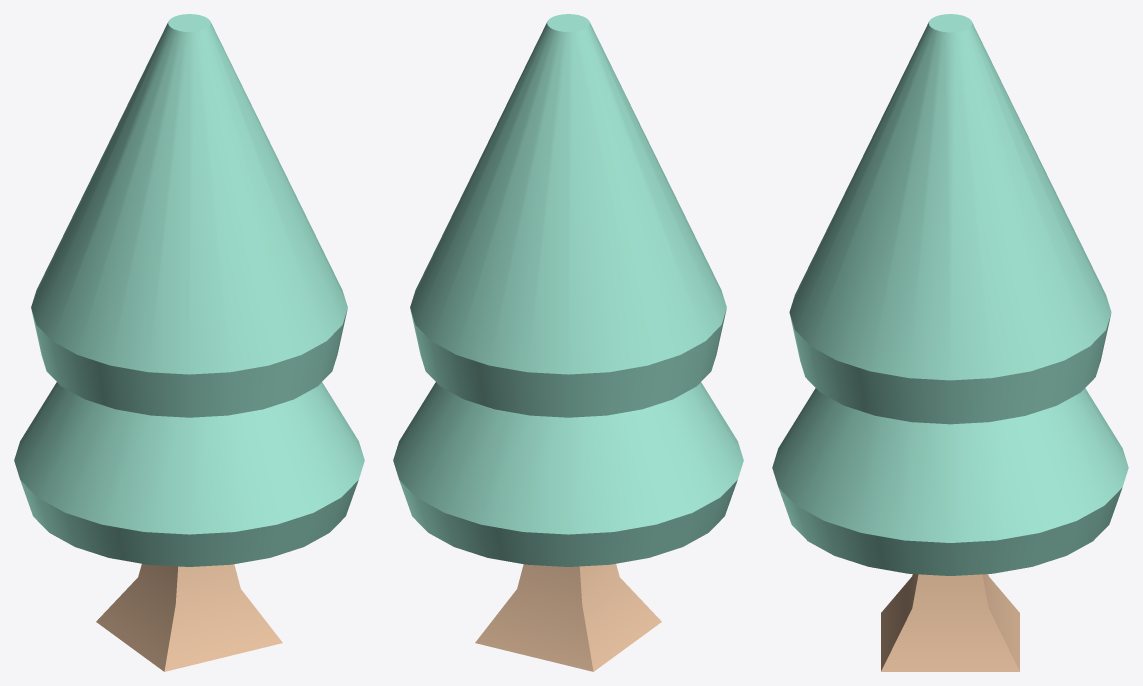
3 renders of one model, left to right at view 1: azimuth 30°, elevation 25°; view 2: azimuth 150°, elevation 25°; view 3: azimuth 270°, elevation 25°, orthographic.
Visible parts, largest first — view 1: treePineSmall; view 2: treePineSmall; view 3: treePineSmall.
Boxes of the visible parts, x1,y1,x2,y2 form: treePineSmall: (14,14,364,671); treePineSmall: (393,14,743,671); treePineSmall: (772,14,1128,671).
Size of the model in its own units: 0.7114 by 1.36 by 0.7114.
